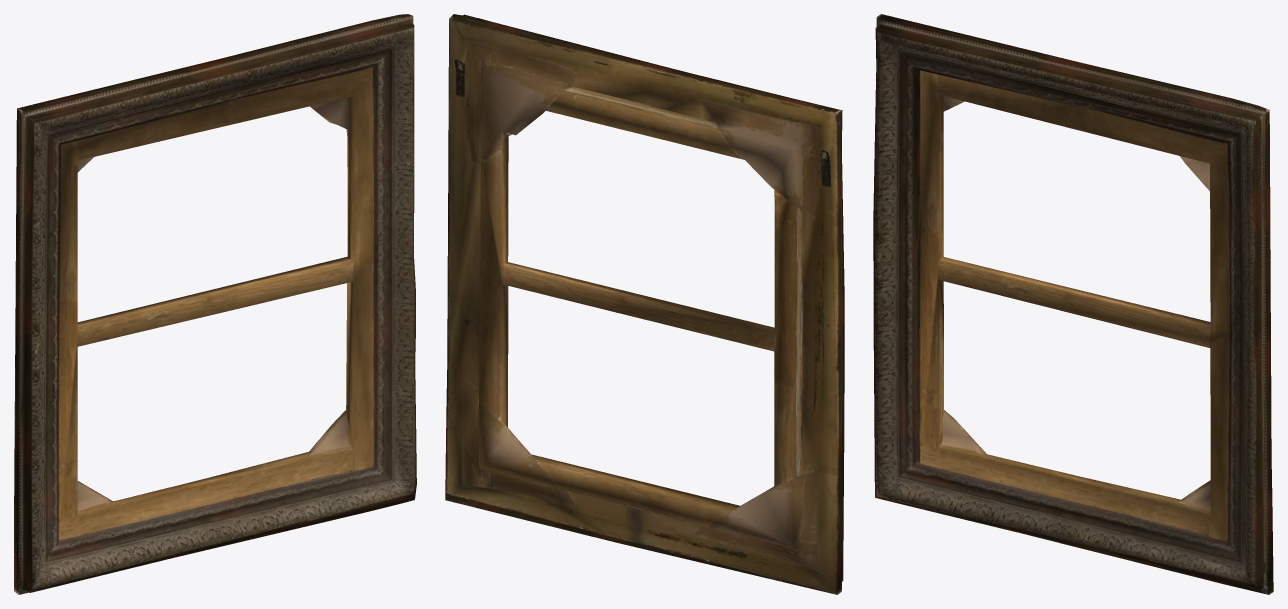
File: decorative_picture_frame_ukkocfnbw_low-transformed.glb
3 renders of one model, left to right at view 1: azimuth 30°, elevation 25°; view 2: azimuth 150°, elevation 25°; view 3: azimuth 330°, elevation 25°, orthographic.
Parts seen in each view (by area): view 1: ukkocfnbw_LOD0_TIER3_000_MatID_1_0; view 2: ukkocfnbw_LOD0_TIER3_000_MatID_1_0; view 3: ukkocfnbw_LOD0_TIER3_000_MatID_1_0.
Part boxes in pixels (x1=…): ukkocfnbw_LOD0_TIER3_000_MatID_1_0: x1=14, y1=14, x2=416, y2=594; ukkocfnbw_LOD0_TIER3_000_MatID_1_0: x1=445, y1=14, x2=844, y2=594; ukkocfnbw_LOD0_TIER3_000_MatID_1_0: x1=873, y1=14, x2=1273, y2=594.
Bounding box in the file's own units: 0.8553 × 1.01 × 0.0703.
1 material, 1 textured.
